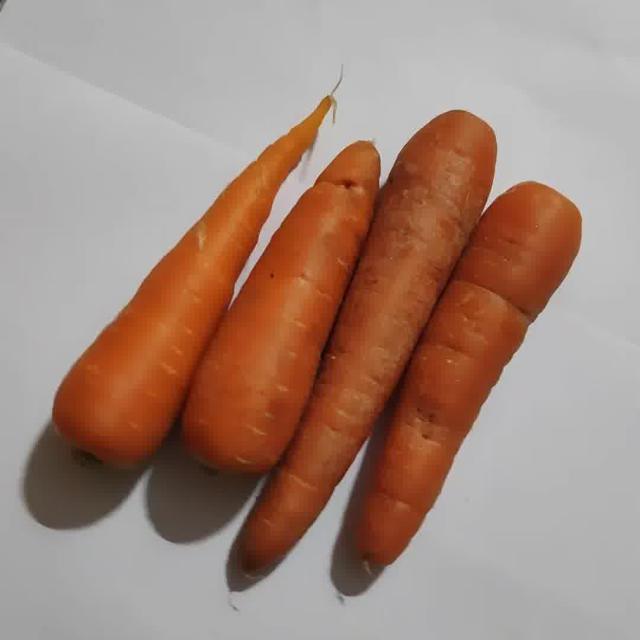Carrot: (237, 111, 496, 576), (53, 96, 331, 463), (351, 182, 581, 568), (183, 142, 380, 472)
